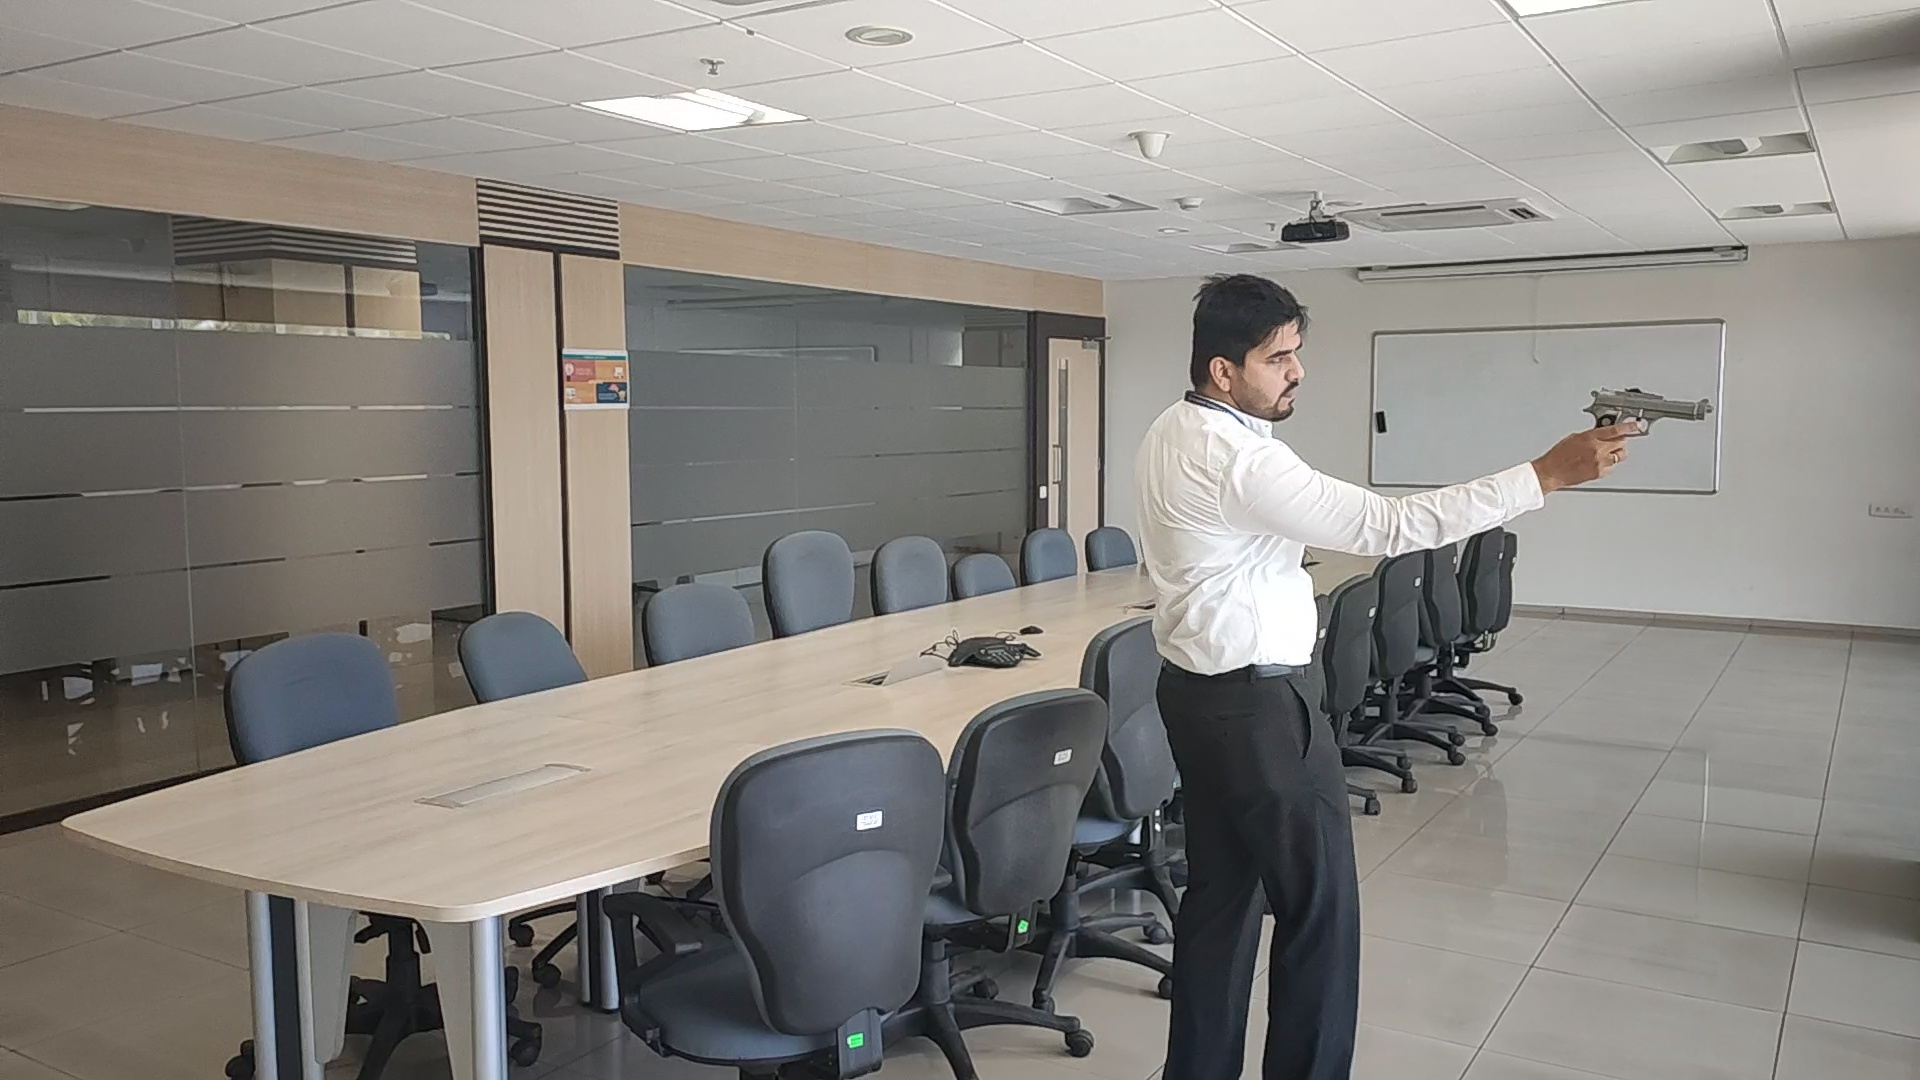gun: (1582, 386, 1714, 422)
